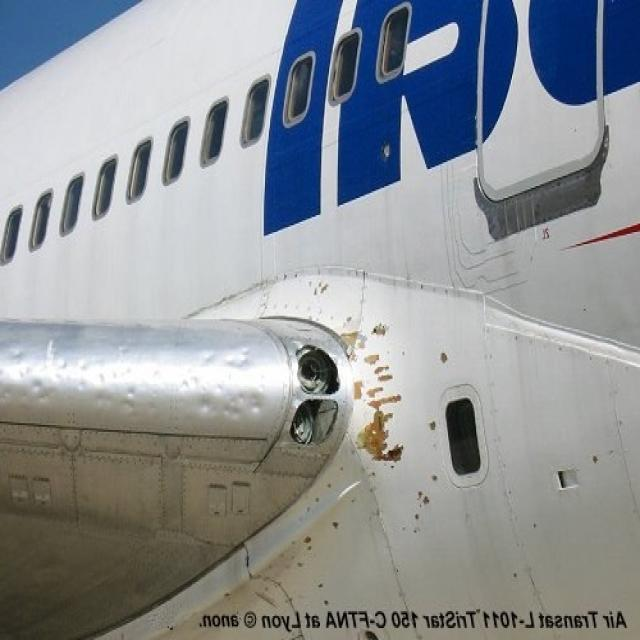dent: (1, 339, 270, 422)
